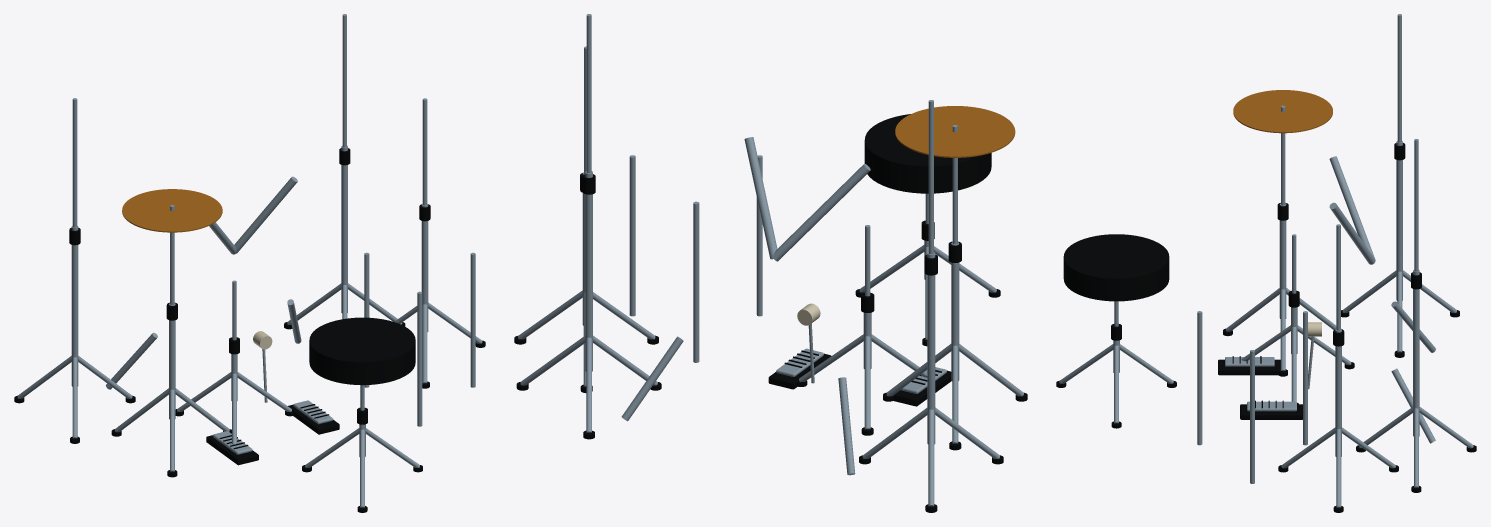
Rendered from DrumHardware.obj.
3 renders of one model, left to right at view 1: azimuth 30°, elevation 25°; view 2: azimuth 150°, elevation 25°; view 3: azimuth 270°, elevation 25°, orthographic. The views are drawn at different scales.
Visible parts, largest first — view 1: Snare_basket_lower.001; view 2: Snare_basket_lower.001; view 3: Snare_basket_lower.001.
Boxes of the visible parts, <box> form: Snare_basket_lower.001: <box>14,14,485,512</box>; Snare_basket_lower.001: <box>514,14,1027,512</box>; Snare_basket_lower.001: <box>1056,14,1476,512</box>.
Size of the model in its own units: 1.7 by 1.29 by 1.51.
